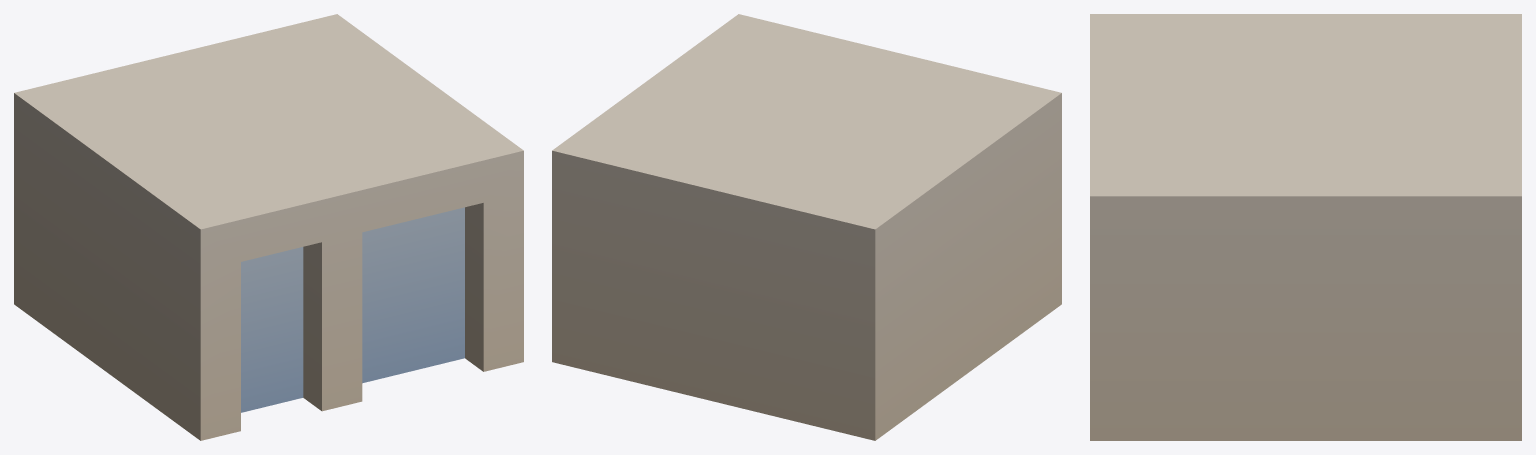
File: building-door-window.glb
The picture shows the model from 3 angles, left to right: view 1: azimuth 30°, elevation 25°; view 2: azimuth 150°, elevation 25°; view 3: azimuth 270°, elevation 25°; orthographic projection. The views are drawn at different scales.
Visible parts, largest first — view 1: building-door-window; view 2: building-door-window; view 3: building-door-window.
Part boxes in pixels (left/top/right/bottom): building-door-window: left=14, top=14, right=523, bottom=440; building-door-window: left=552, top=14, right=1061, bottom=440; building-door-window: left=1090, top=14, right=1521, bottom=440.
Size of the model in its own units: 1 by 0.625 by 1.
